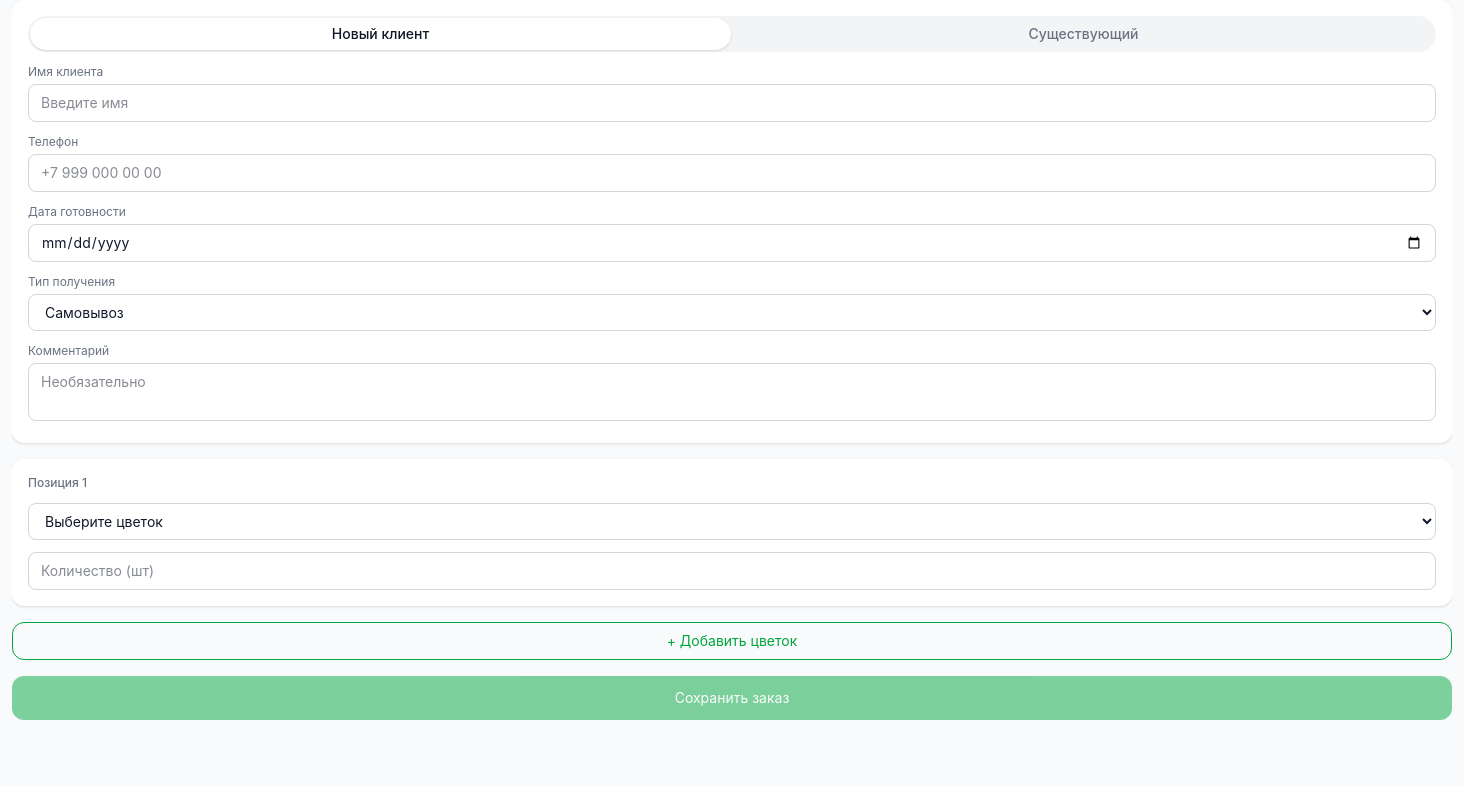
Test: NewOrderPage › добавляет новую позицию по кнопке
Check: the text "Позиция 1" is shown once, box [28,475,87,491]
Click the button "+ Добавить цветок": (732, 641) [12,622,1452,660]
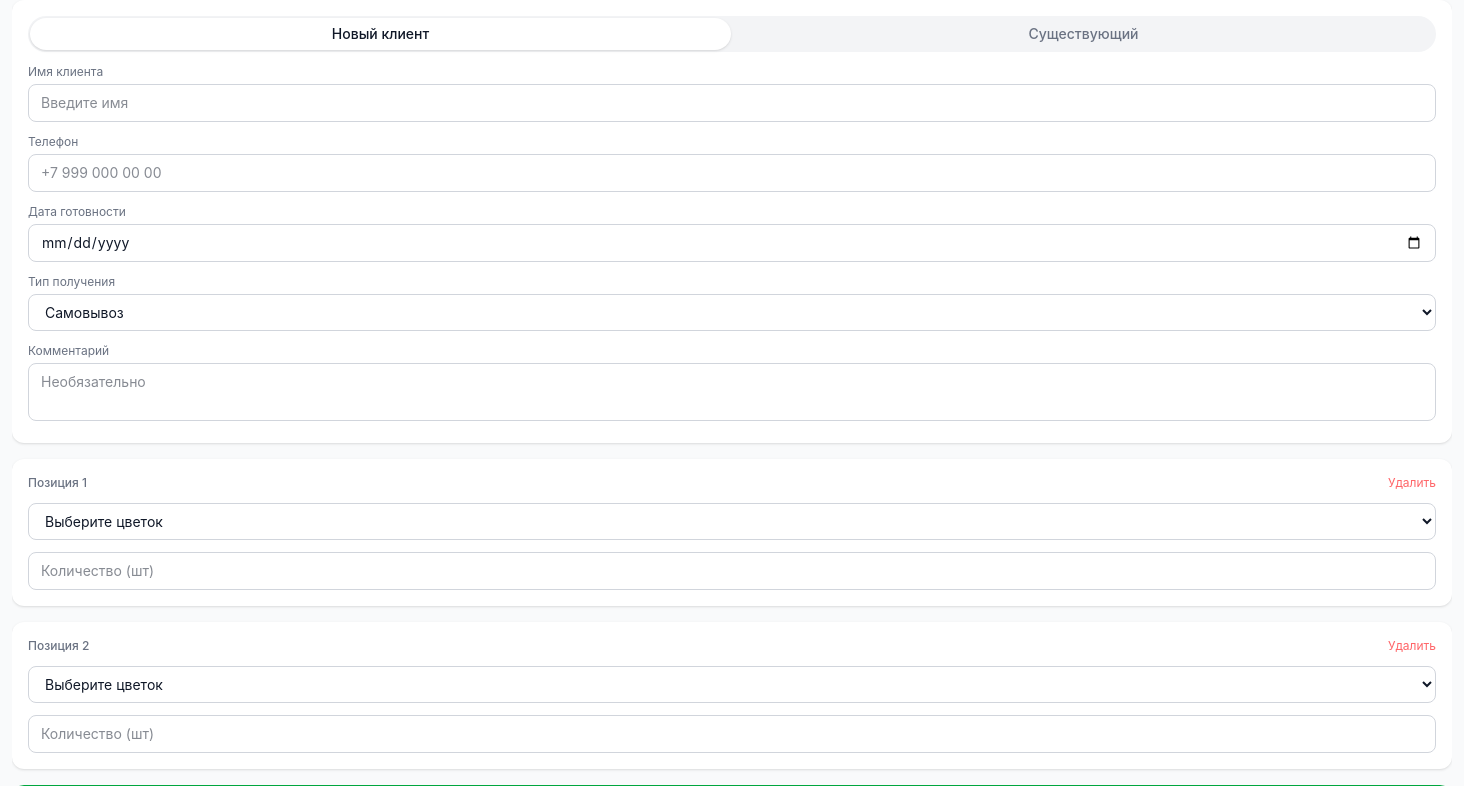
Check: the text "Позиция 1" is shown 2 times, box [28,475,87,491]; [28,638,89,654]
